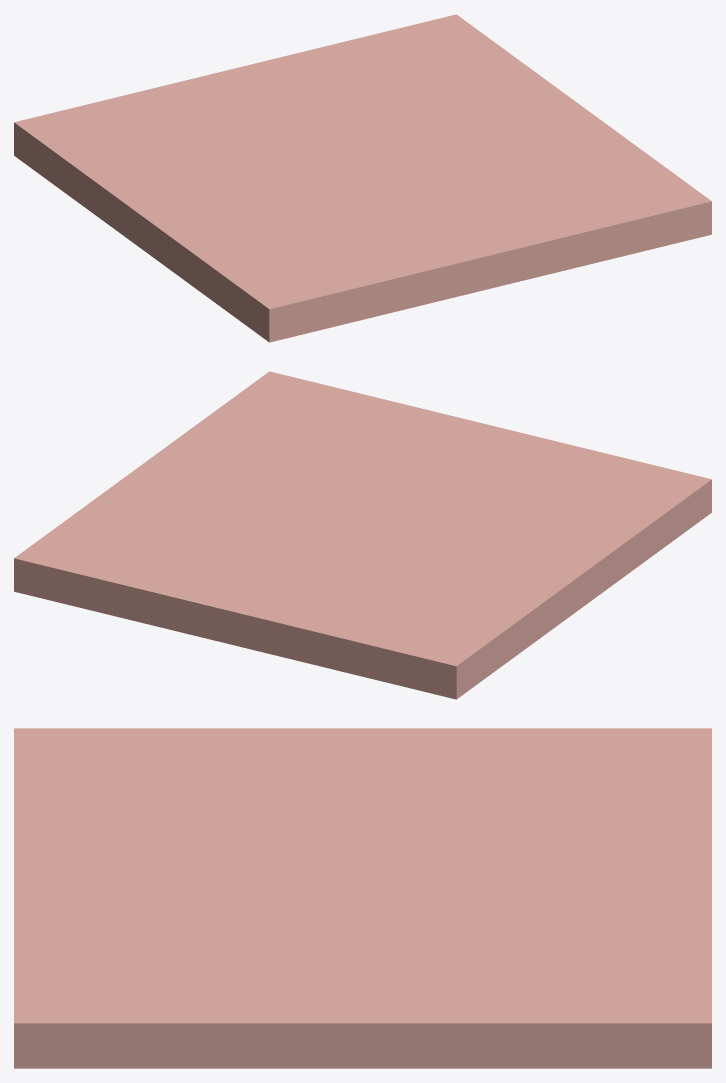
Rendered from MesaLMouse.fbx.
3 renders of one model, top to bottom at view 1: azimuth 30°, elevation 25°; view 2: azimuth 150°, elevation 25°; view 3: azimuth 270°, elevation 25°, orthographic. The views are drawn at different scales.
Parts seen in each view (by area): view 1: BasePCA.001; view 2: BasePCA.001; view 3: BasePCA.001.
Boxes of the visible parts, bbox=[...] form: BasePCA.001: bbox=[14, 14, 711, 342]; BasePCA.001: bbox=[14, 371, 711, 699]; BasePCA.001: bbox=[14, 728, 711, 1068].
Size of the model in its own units: 14.56 by 1.05 by 14.56.
